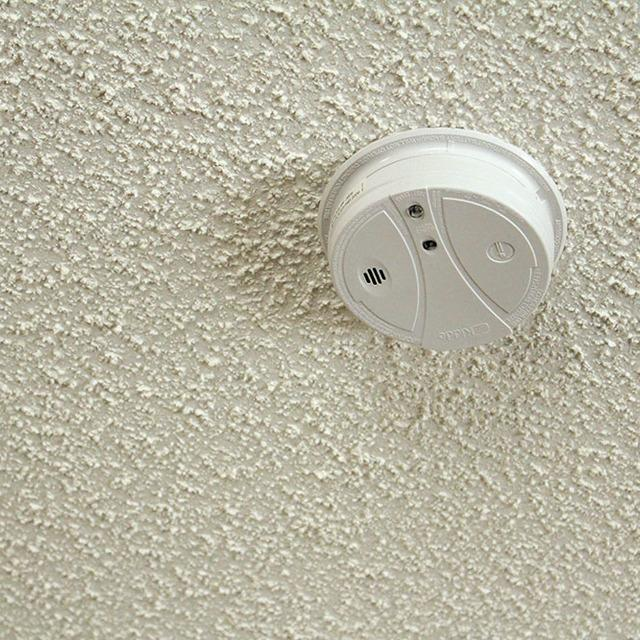Smoke-Detector: (302, 129, 574, 359)
